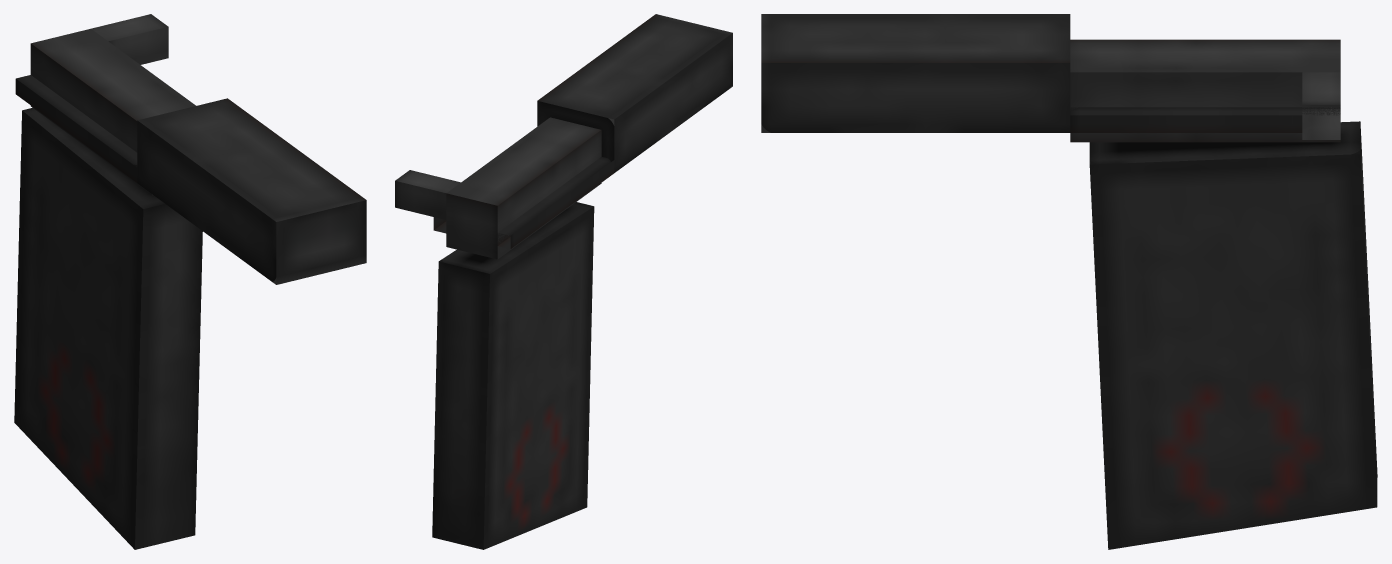
File: semi_automatic.obj
3 renders of one model, left to right at view 1: azimuth 30°, elevation 25°; view 2: azimuth 150°, elevation 25°; view 3: azimuth 270°, elevation 25°, orthographic. The views are drawn at different scales.
Parts seen in each view (by area): view 1: big_magazine, semi_automatic, bolt_semiauto; view 2: big_magazine, semi_automatic, bolt_semiauto; view 3: big_magazine, semi_automatic, bolt_semiauto.
Boxes of the visible parts, <box> form: big_magazine: <box>14,108,202,549</box>; semi_automatic: <box>15,75,366,284</box>; bolt_semiauto: <box>30,14,195,195</box>; big_magazine: <box>432,202,594,549</box>; semi_automatic: <box>433,14,732,248</box>; bolt_semiauto: <box>395,117,601,259</box>; big_magazine: <box>1089,121,1377,549</box>; semi_automatic: <box>761,14,1340,132</box>; bolt_semiauto: <box>1070,39,1340,142</box>.
Bounding box in the file's own units: 0.2812 × 0.8845 × 0.9969.
